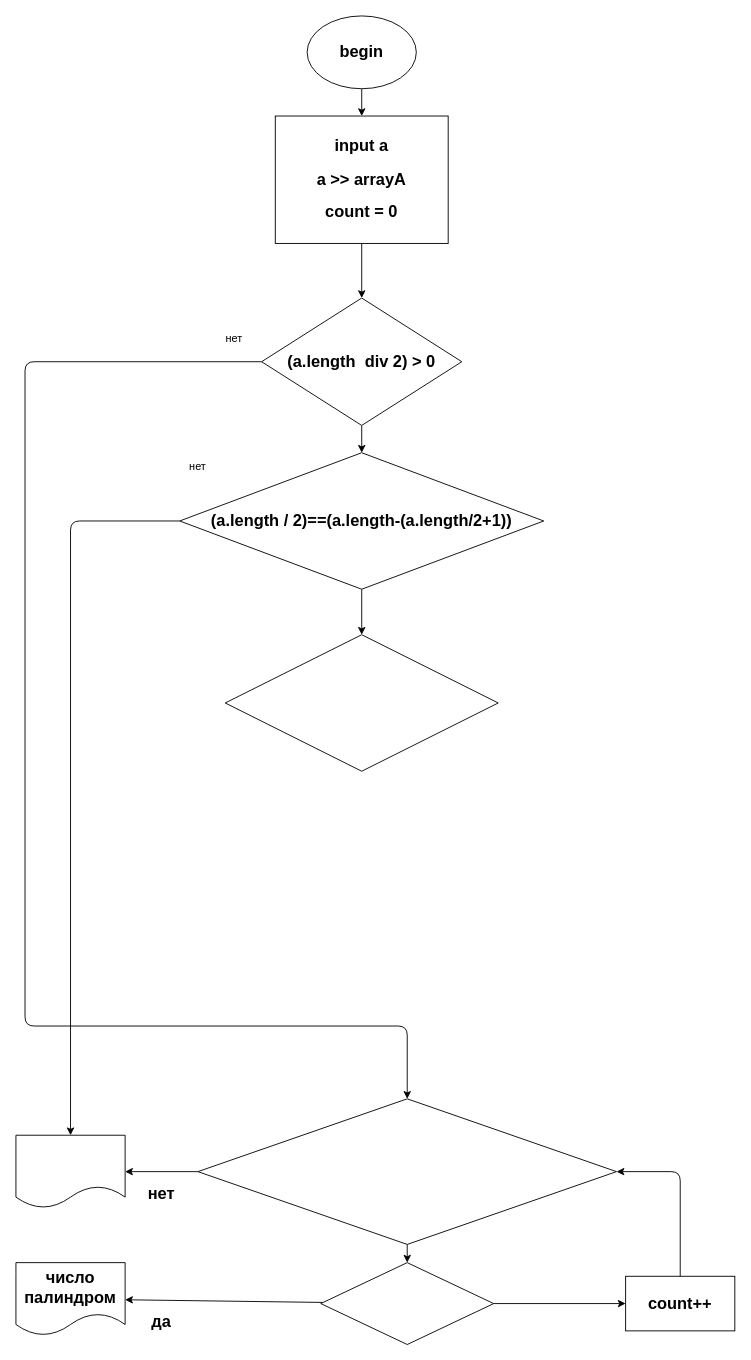
This 751x1360 diagram has some shape labels left out. The shapes that lost their labels are listed below. From the top down, each one's centre as x and y in pixels, then its label:
pixel 70 1171: число не палиндром
pixel 407 1171: (a[count]==a[a.length])&&(count !=a.length)
pixel 407 1303: count ==3
